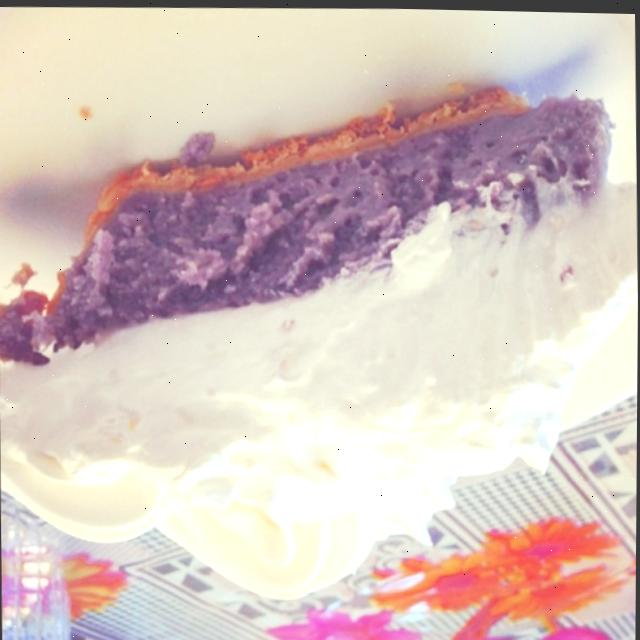蛋糕甜品: (0, 40, 625, 634)
